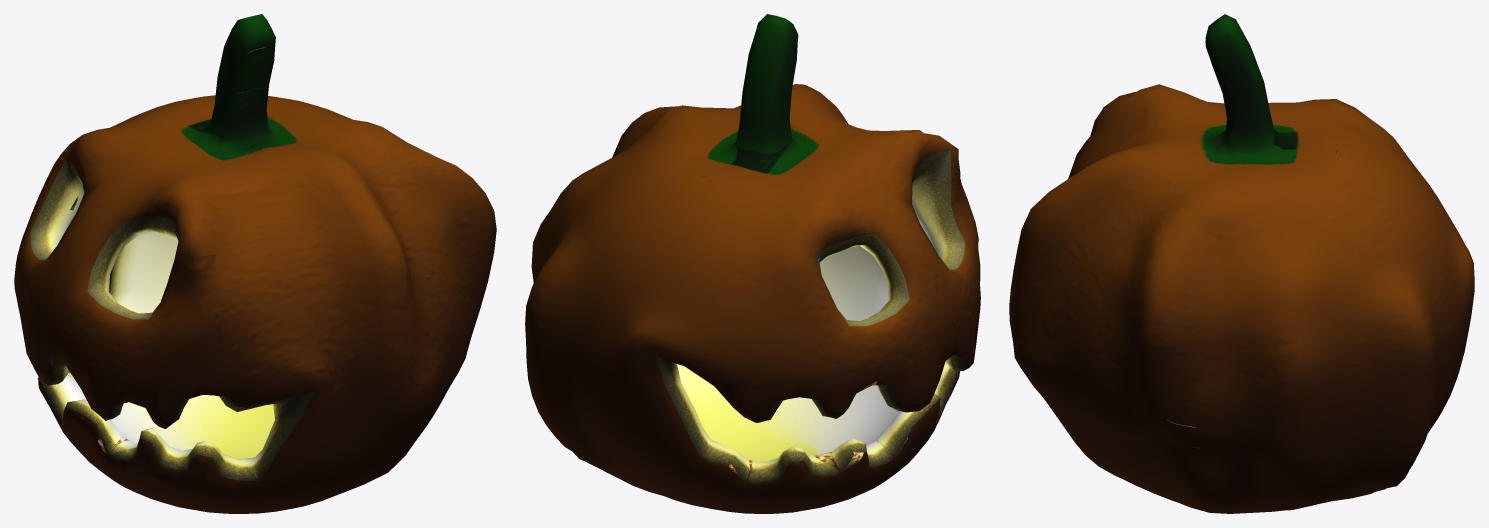
Rendered from pumpkin1.fbx.
3 renders of one model, left to right at view 1: azimuth 30°, elevation 25°; view 2: azimuth 150°, elevation 25°; view 3: azimuth 270°, elevation 25°, orthographic. The views are drawn at different scales.
Visible parts, largest first — view 1: Cube; view 2: Cube; view 3: Cube.
Part boxes in pixels (x1,y1,x2,y2): Cube: (14, 14, 496, 513); Cube: (525, 14, 980, 513); Cube: (1009, 14, 1474, 513).
Size of the model in its own units: 2.49 by 2.81 by 2.53.
Materials: 1 (1 with a texture image).
